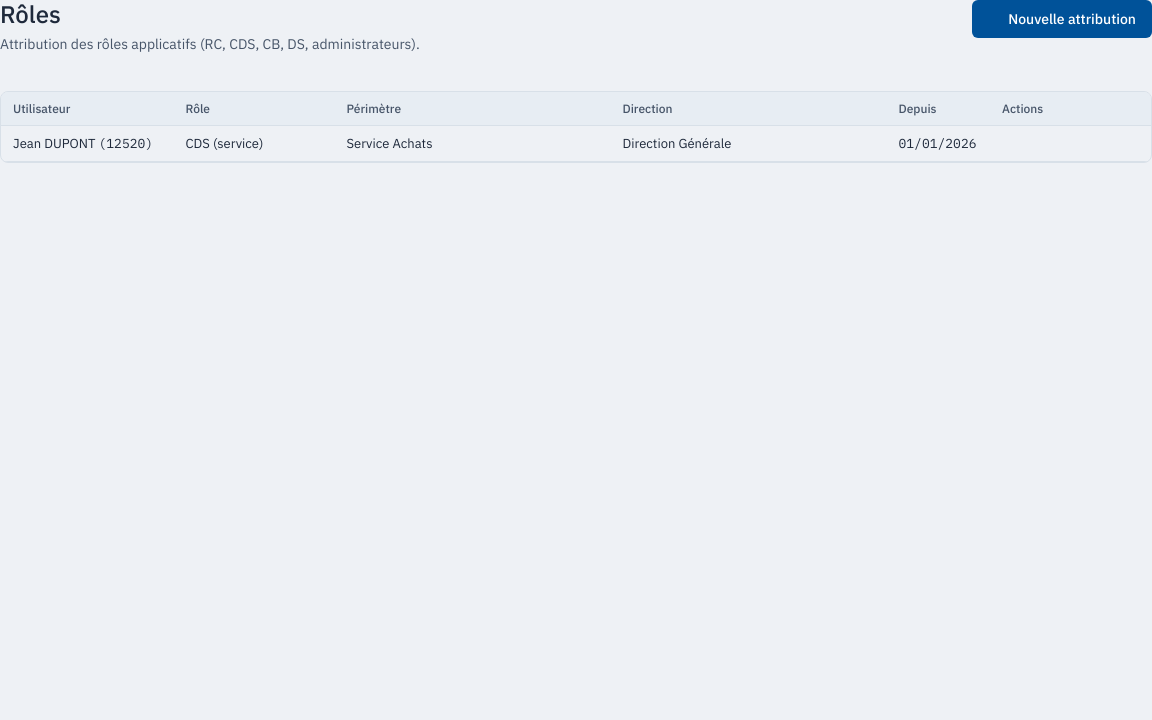
RolesUtilisateurs › ADMIN_SERVICE ne voit pas DS/ADMIN_APP dans le choix de rôle
Click the button "Nouvelle attribution": [1062, 19] box [972,0,1151,38]
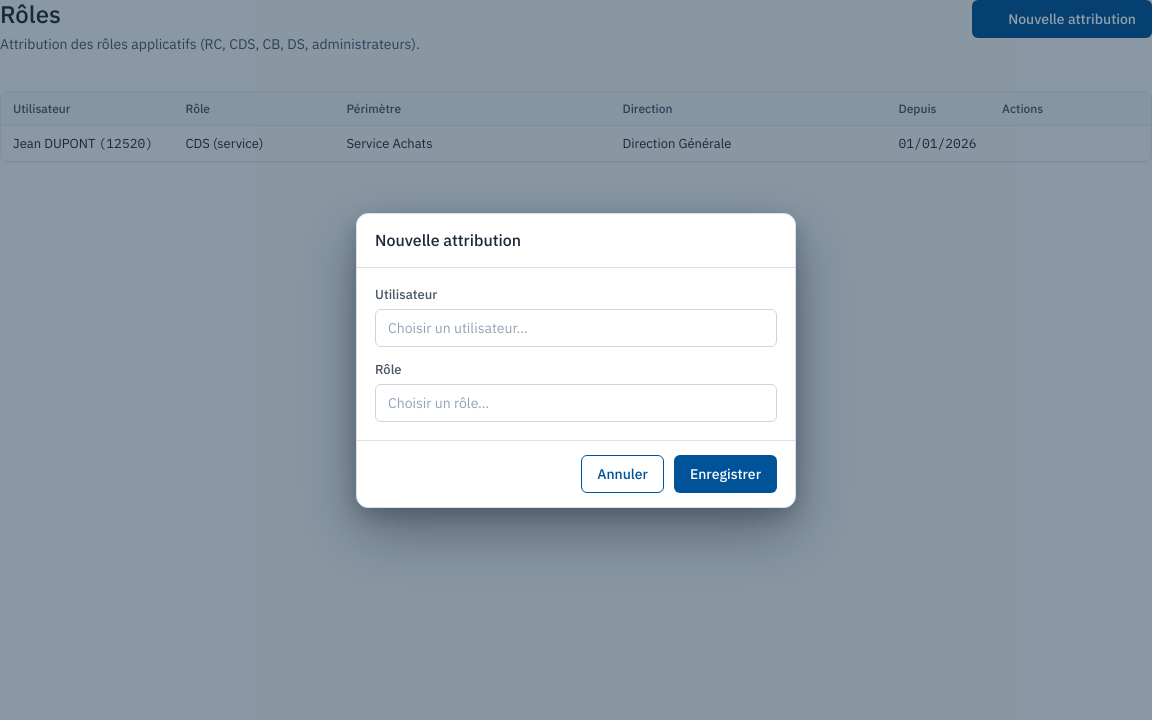
Click the button "Choisir un rôle…": [439, 402] box [375,384,777,422]
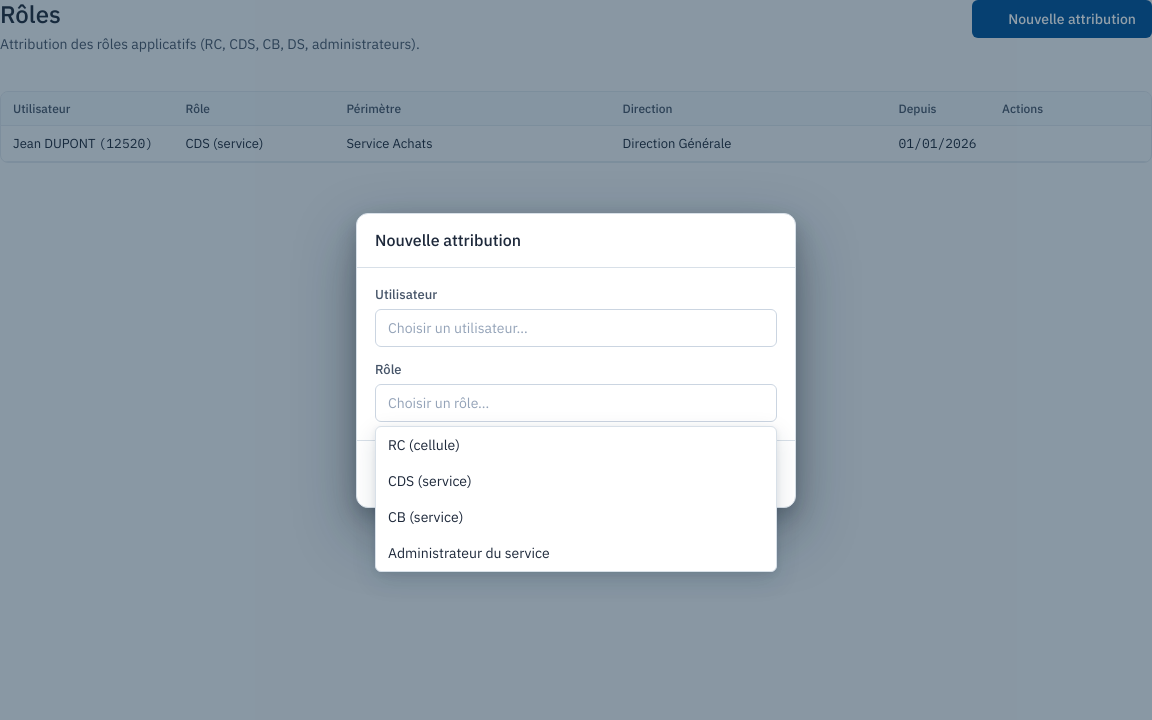
Now the text "RC (cellule)" is shown, box [388,436,460,454]
